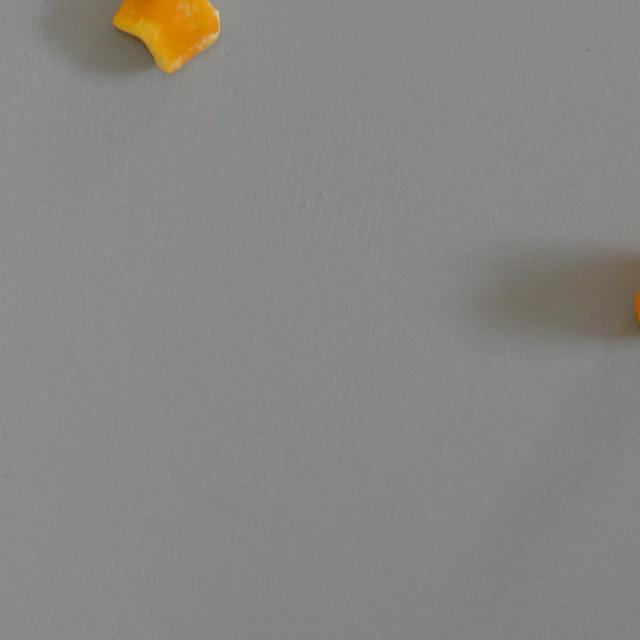no_canjicado: (622, 233, 640, 347)
pelicula: (109, 0, 228, 78)
